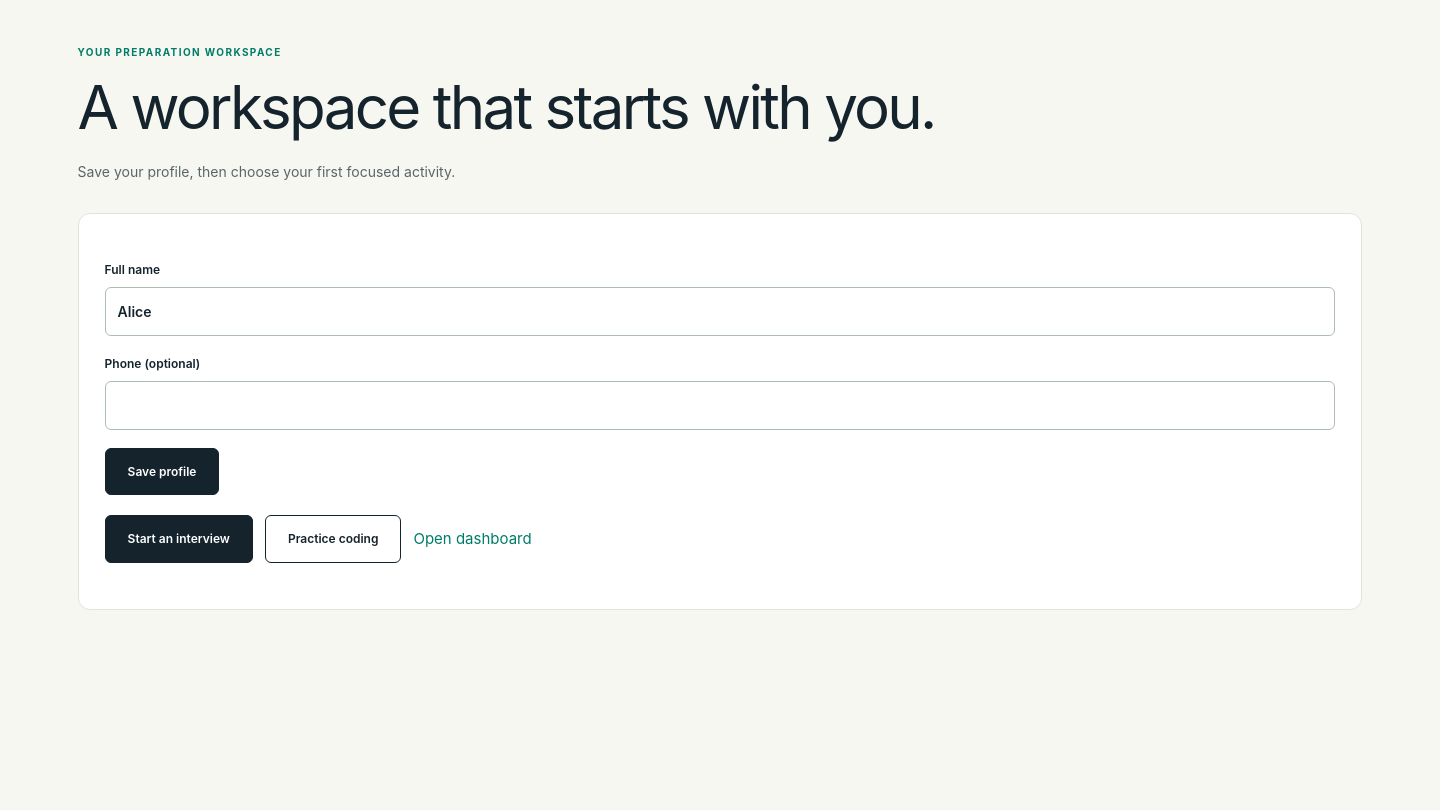
Test: recoverable forms and authentication boundaries › loads and saves only the editable profile fields
The width and height of the screenshot is (1440, 810).
Replace the text in the field labelled "Full name" with "Alice updated": {"x": 720, "y": 311} 105,287 -> 1335,336
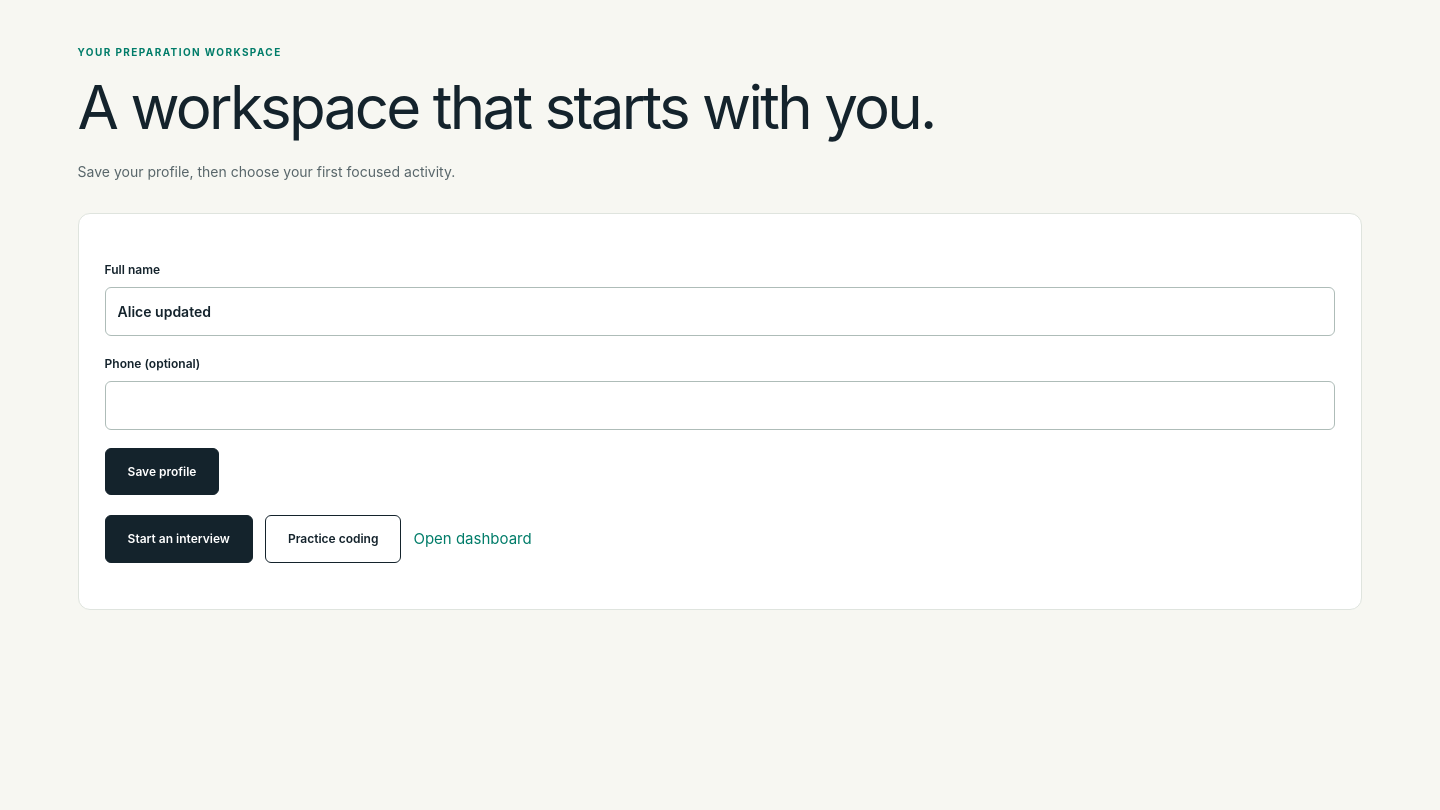
Click the button "Save profile": {"x": 162, "y": 472} 105,448 -> 219,496
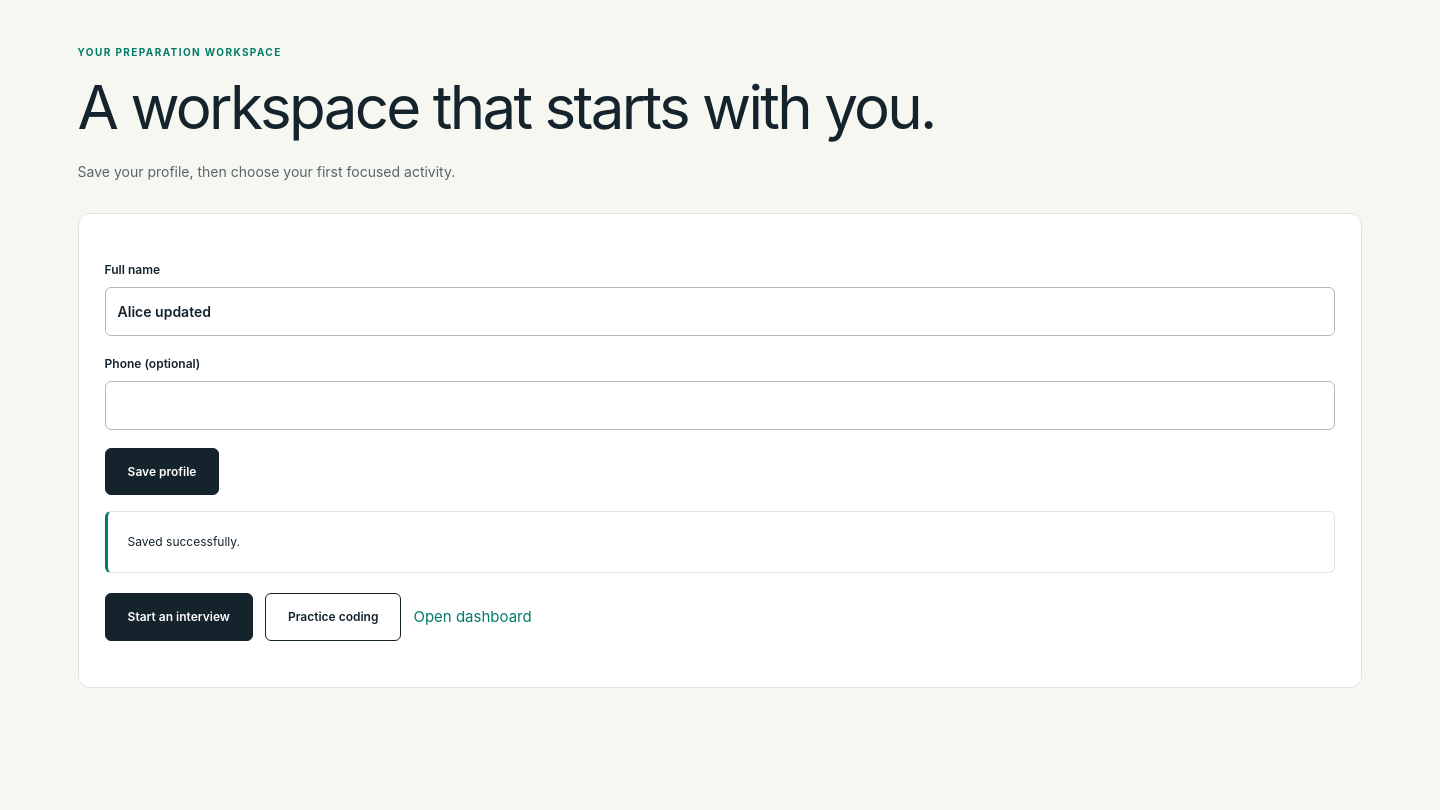
Check: the text "Saved successfully." is shown, box 105,512 -> 1335,573
